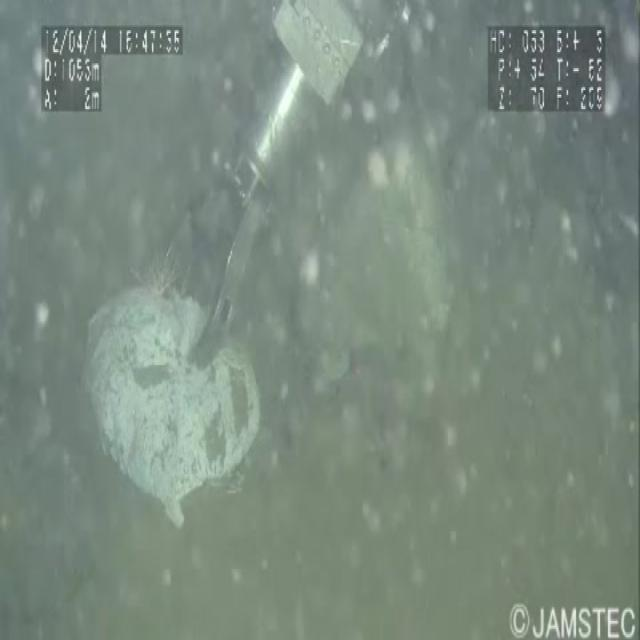Plastic: (67, 253, 260, 518)
